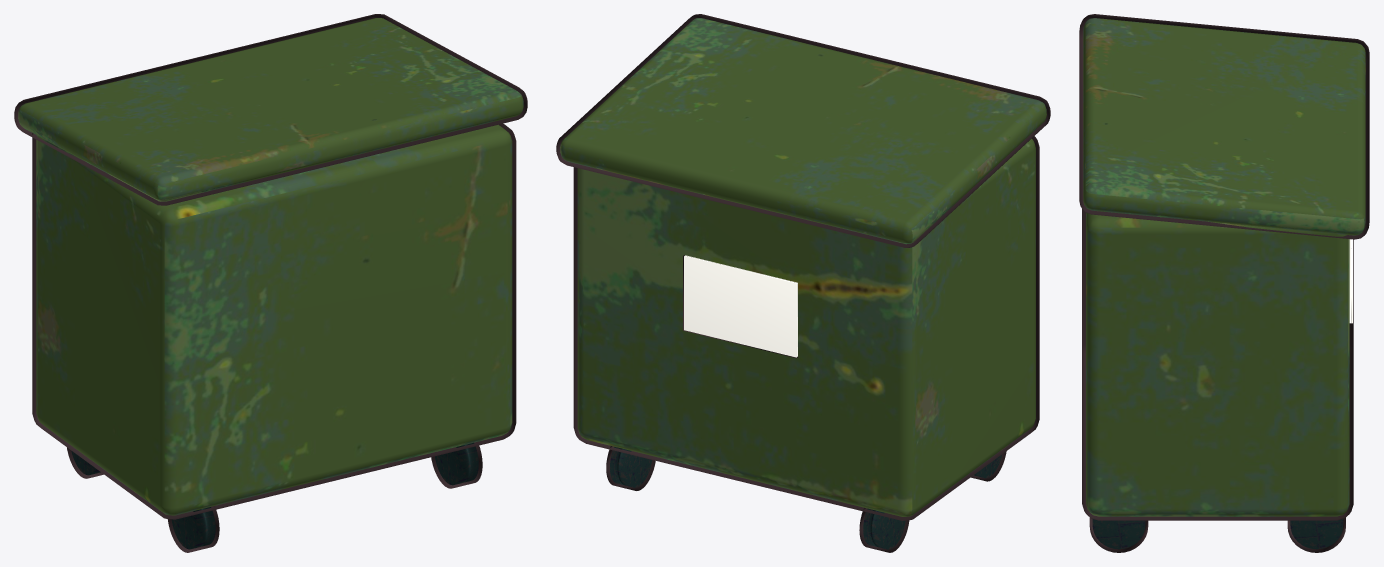
The model's file is cassonetto.glb.
3 renders of one model, left to right at view 1: azimuth 30°, elevation 25°; view 2: azimuth 150°, elevation 25°; view 3: azimuth 270°, elevation 25°, orthographic. The views are drawn at different scales.
Parts seen in each view (by area): view 1: Cube.064, Cube.065, Cylinder.027, Cylinder.029; view 2: Cube.064, Cube.065, Cube.066, Cylinder.028, Cylinder.030; view 3: Cube.064, Cube.065, Cylinder.029, Cylinder.030, Cube.066.
Boxes of the visible parts, <box> form: Cube.064: <box>32,123,516,519</box>; Cube.065: <box>14,14,527,205</box>; Cylinder.027: <box>167,506,219,552</box>; Cylinder.029: <box>431,441,482,488</box>; Cube.064: <box>573,136,1039,520</box>; Cube.065: <box>556,14,1050,247</box>; Cube.066: <box>683,255,797,358</box>; Cylinder.028: <box>859,507,909,552</box>; Cylinder.030: <box>606,446,655,490</box>; Cube.064: <box>1082,209,1353,520</box>; Cube.065: <box>1079,14,1369,239</box>; Cylinder.029: <box>1089,517,1148,552</box>; Cylinder.030: <box>1287,518,1345,552</box>; Cube.066: <box>1349,239,1353,324</box>.
Size of the model in its own units: 1.28 by 1.29 by 0.8812.
5 materials, 3 textured.
